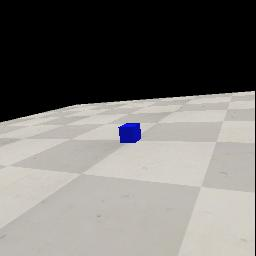box: (118, 123, 141, 143)
